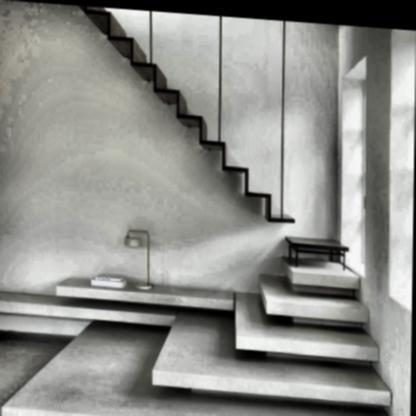stair: (190, 241, 391, 416)
